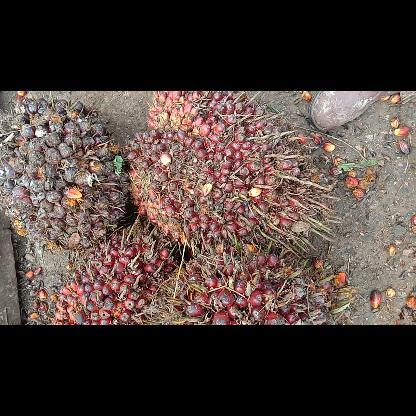Kurang masak: (0, 99, 131, 256)
TBS masak: (126, 91, 320, 255), (144, 236, 352, 324), (46, 226, 186, 324)
